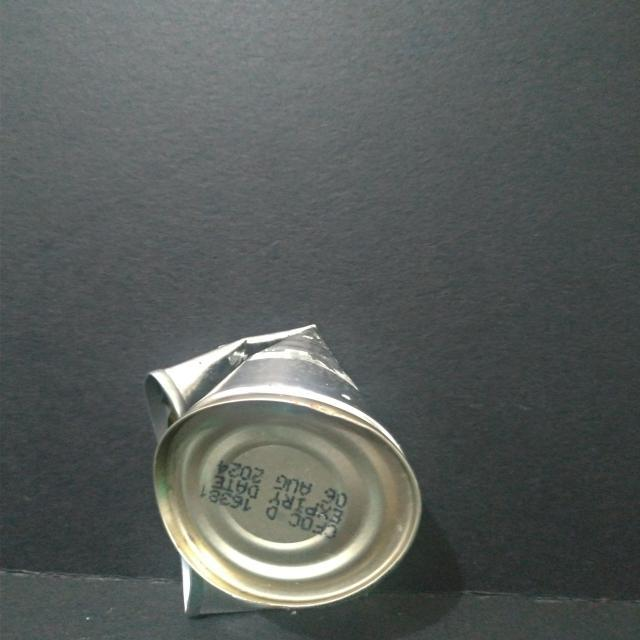metal-can: (142, 322, 423, 616)
